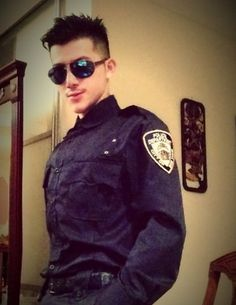person: (37, 18, 183, 287)
